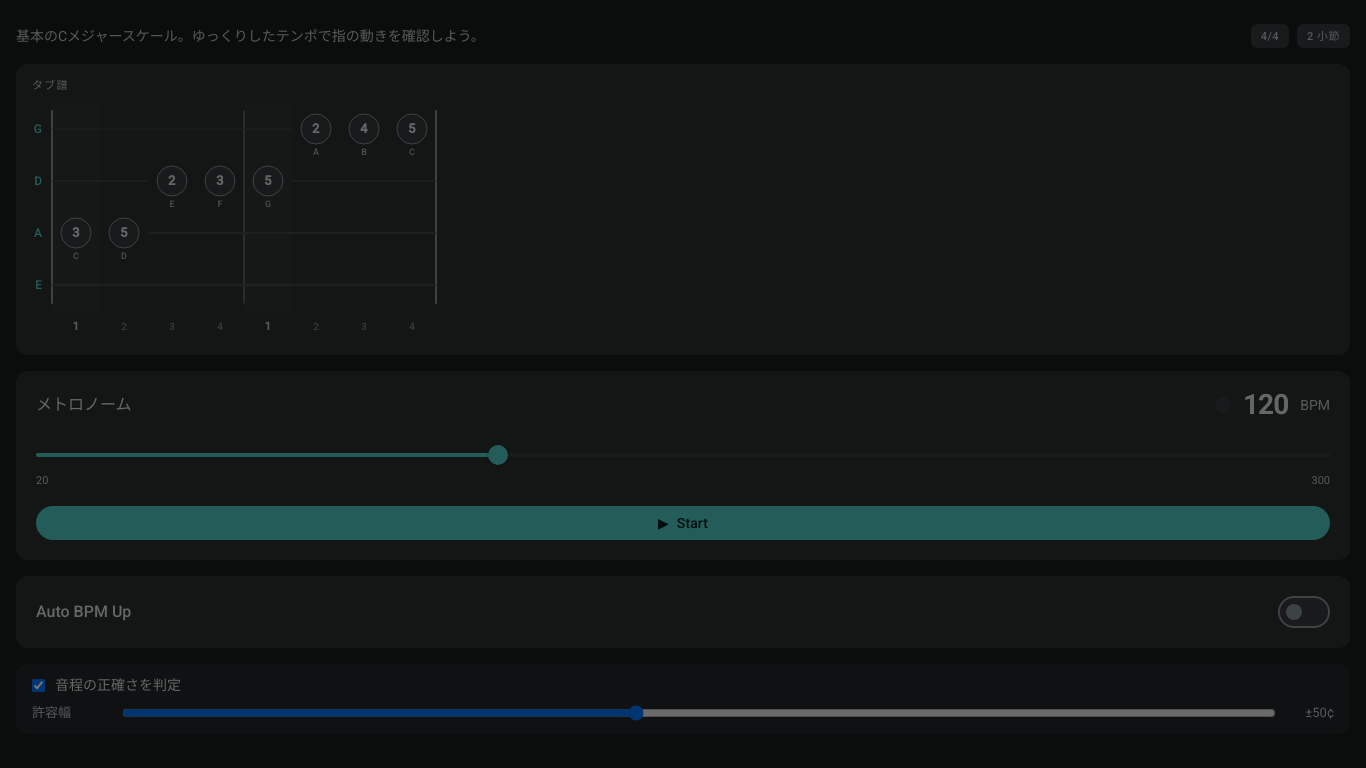
Test: practice start flow › shows microphone startup errors instead of starting the session
Click the button "▶ Start".
click(683, 523)  # box [36,506,1330,540]
(page scrolled)
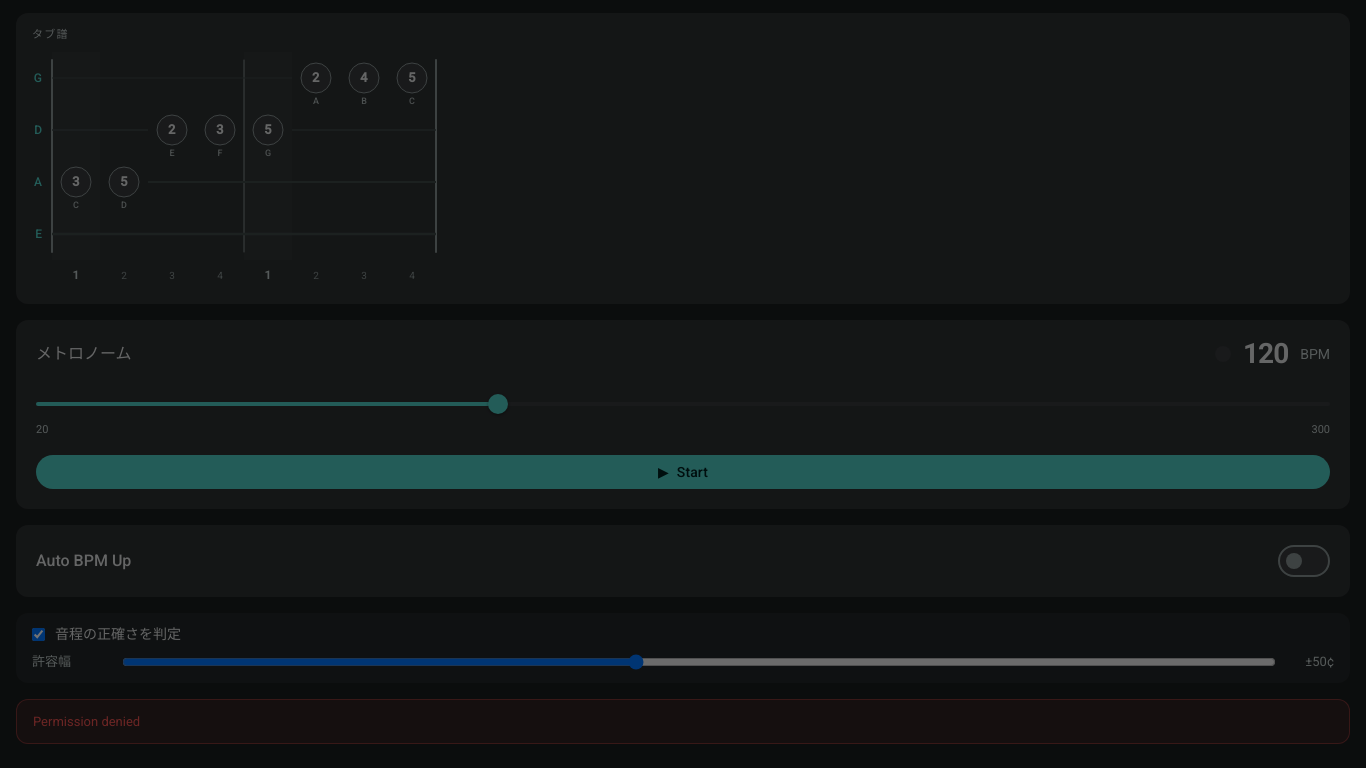
Expected: the message reads "Permission denied", [33,714,140,729]
